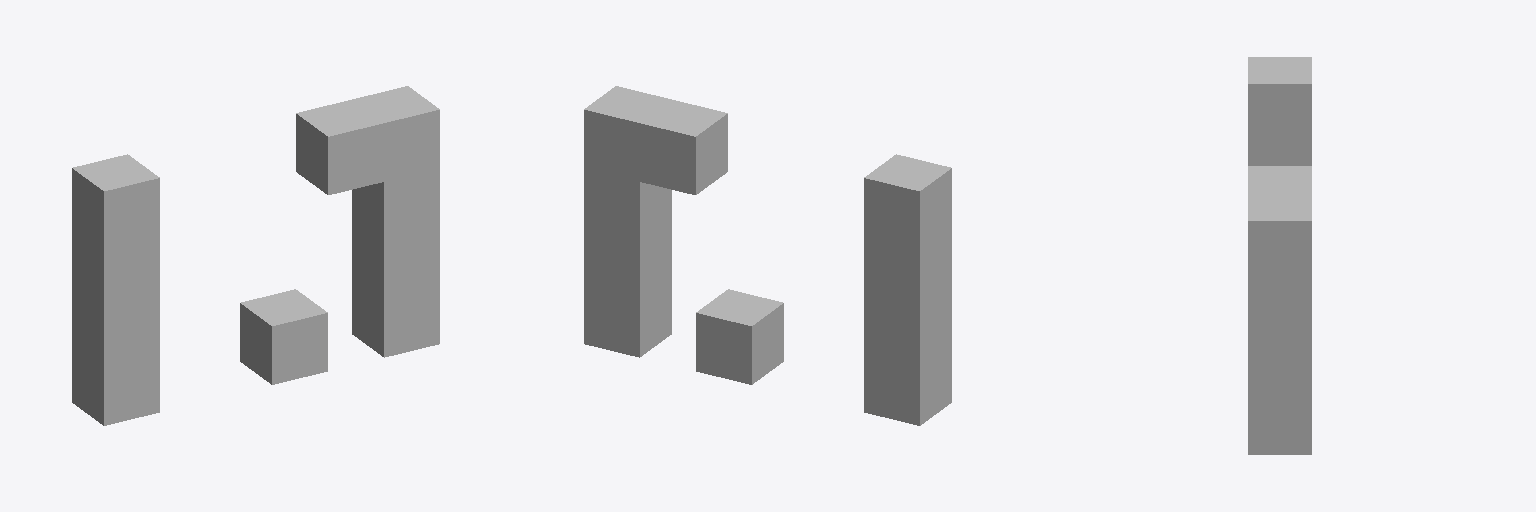
Rendered from environ-rail1-broken.obj.
3 views of the same model, side by side, from view 1: azimuth 30°, elevation 25°; view 2: azimuth 150°, elevation 25°; view 3: azimuth 270°, elevation 25° (orthographic).
Parts seen in each view (by area): view 1: rail1-broken; view 2: rail1-broken; view 3: rail1-broken.
Boxes of the visible parts, x1,y1,x2,y2 form: rail1-broken: [72, 86, 439, 425]; rail1-broken: [584, 86, 951, 425]; rail1-broken: [1248, 57, 1311, 454].
Bounding box in the file's own units: 0.6 × 0.4 × 0.1.